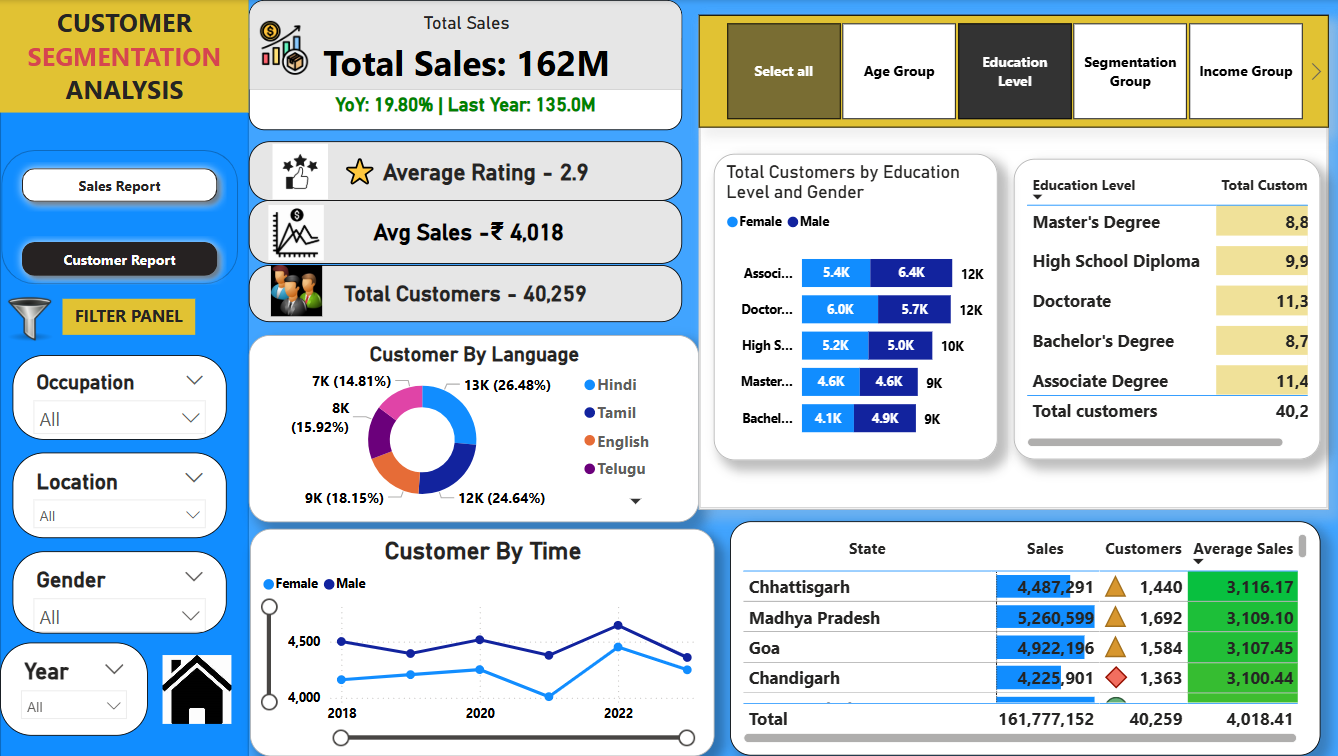

Layout of this report page (visuals, bound fields, positions):
{"tool":"powerbi","page":{"name":"Customer Report","canvas":[1280,720],"ordinal":1},"visuals":[{"type":"shape","box":[0,0,237,721],"z":0},{"type":"card","title":"Total Sales","fields":{"Values":["Date Table.YoY"]},"box":[237,0,413,124],"z":1000},{"type":"card","fields":{"Values":["Date Table.Avg Rating Title"]},"box":[237,134,413,57],"z":2000},{"type":"card","fields":{"Values":["Date Table.Avg Sales Title"]},"box":[237,191,413,61],"z":3000},{"type":"card","fields":{"Values":["Date Table.Total Customers Title"]},"box":[237,252,413,54],"z":4000},{"type":"image","box":[254.6,132.2,62.6,62.6],"z":5000},{"type":"image","box":[247.7,190.6,69.6,62.6],"z":6000},{"type":"image","box":[247.7,247.7,69.6,58.4],"z":7000},{"type":"image","box":[236.5,13.9,66.8,62.6],"z":8000},{"type":"donutChart","title":"Customer By Language","fields":{"Category":["in.Updated Language"],"Y":["Date Table.Total Customers"]},"box":[236.5,318.6,428.5,178.1],"z":9000},{"type":"lineChart","title":"Customer By Time","fields":{"Series":["in.Gender"],"Category":["Date Table.Month","Date Table.Year"],"Y":["Date Table.Total Customers"]},"box":[237.9,503.7,442.4,217],"z":10000},{"type":"shape","box":[666,14,600,471],"z":11000},{"type":"slicer","fields":{"Values":["Parameter 4.Parameter"]},"box":[666,14,600,107],"z":12000},{"type":"barChart","fields":{"Category":["in.Age Group"],"Series":["in.Gender"],"Y":["Date Table.Total Customers"]},"box":[680,146,270,292],"z":13000},{"type":"tableEx","fields":{"Values":["in.Age Group","Date Table.Total Customers"]},"box":[965.6,151.7,292.2,286.6],"z":14000},{"type":"tableEx","fields":{"Values":["in.Location","Date Table.Total Sales","Date Table.Total Customers","Date Table.Kpi Avg Sales per Customer"]},"box":[695,497,562,223],"z":15000},{"type":"slicer","fields":{"Values":["in.Occupation"]},"box":[12,338.6,204.1,80.5],"z":16000},{"type":"slicer","fields":{"Values":["in.Location"]},"box":[12,431.1,204.1,81.7],"z":17000},{"type":"slicer","fields":{"Values":["in.Gender"]},"box":[12,524.7,204.1,78],"z":18000},{"type":"slicer","fields":{"Values":["Date Table.Year"]},"box":[0,612.2,140.5,89],"z":19000},{"type":"image","box":[148,619,75,75],"z":20000},{"type":"shape","box":[1.1,143.3,225.6,127.8],"z":21000},{"type":"textbox","box":[60,285,126,34],"z":22000},{"type":"image","box":[1.2,277.4,54,52.8],"z":23000},{"type":"pageNavigator","box":[12.2,151.1,204.4,120],"z":24000},{"type":"textbox","box":[0,0,237,107],"z":25000}]}

Visuals, with their boxes in screenshot pixels (x1, y1, x2, y2), scaled from the page's 1280x720 canvas onto the 1338x756 screenshot:
shape: {"left": 0, "top": 0, "right": 248, "bottom": 755}
"Total Sales" card: {"left": 248, "top": 0, "right": 679, "bottom": 130}
card - Date Table.Avg Rating Title: {"left": 248, "top": 141, "right": 679, "bottom": 201}
card - Date Table.Avg Sales Title: {"left": 248, "top": 201, "right": 679, "bottom": 265}
card - Date Table.Total Customers Title: {"left": 248, "top": 265, "right": 679, "bottom": 321}
image: {"left": 266, "top": 139, "right": 332, "bottom": 205}
image: {"left": 259, "top": 200, "right": 332, "bottom": 266}
image: {"left": 259, "top": 260, "right": 332, "bottom": 321}
image: {"left": 247, "top": 15, "right": 317, "bottom": 80}
"Customer By Language" donutChart: {"left": 247, "top": 335, "right": 695, "bottom": 522}
"Customer By Time" lineChart: {"left": 249, "top": 529, "right": 711, "bottom": 755}
shape: {"left": 696, "top": 15, "right": 1323, "bottom": 509}
slicer - Parameter 4.Parameter: {"left": 696, "top": 15, "right": 1323, "bottom": 127}
barChart - in.Age Group x in.Gender: {"left": 711, "top": 153, "right": 993, "bottom": 460}
tableEx - in.Age Group x Date Table.Total Customers: {"left": 1009, "top": 159, "right": 1315, "bottom": 460}
tableEx - in.Location x Date Table.Total Sales: {"left": 726, "top": 522, "right": 1314, "bottom": 755}
slicer - in.Occupation: {"left": 13, "top": 356, "right": 226, "bottom": 440}
slicer - in.Location: {"left": 13, "top": 453, "right": 226, "bottom": 538}
slicer - in.Gender: {"left": 13, "top": 551, "right": 226, "bottom": 633}
slicer - Date Table.Year: {"left": 0, "top": 643, "right": 147, "bottom": 736}
image: {"left": 155, "top": 650, "right": 233, "bottom": 729}
shape: {"left": 1, "top": 150, "right": 237, "bottom": 285}
textbox: {"left": 63, "top": 299, "right": 194, "bottom": 335}
image: {"left": 1, "top": 291, "right": 58, "bottom": 347}
pageNavigator: {"left": 13, "top": 159, "right": 226, "bottom": 285}
textbox: {"left": 0, "top": 0, "right": 248, "bottom": 112}
